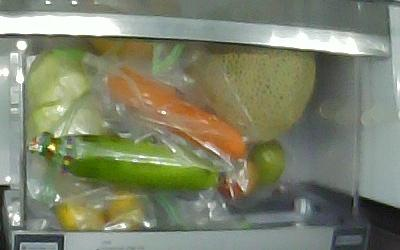cabbage_vinyl: (24, 47, 113, 137)
carrot_vinyl: (103, 64, 246, 159)
melon_vinyl: (187, 41, 316, 142)
pear_vinyl: (88, 36, 175, 62)
tangerine_vinyl: (56, 200, 106, 232), (106, 190, 145, 230)
tomato: (249, 139, 286, 183)
tomato_vinyl: (217, 158, 259, 198)
zucchini_vinyl: (26, 131, 222, 189)
